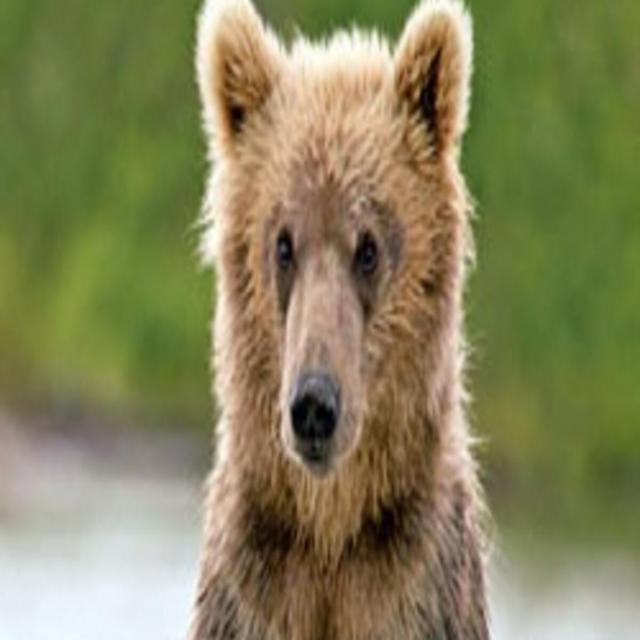Bear: (182, 0, 495, 640)
